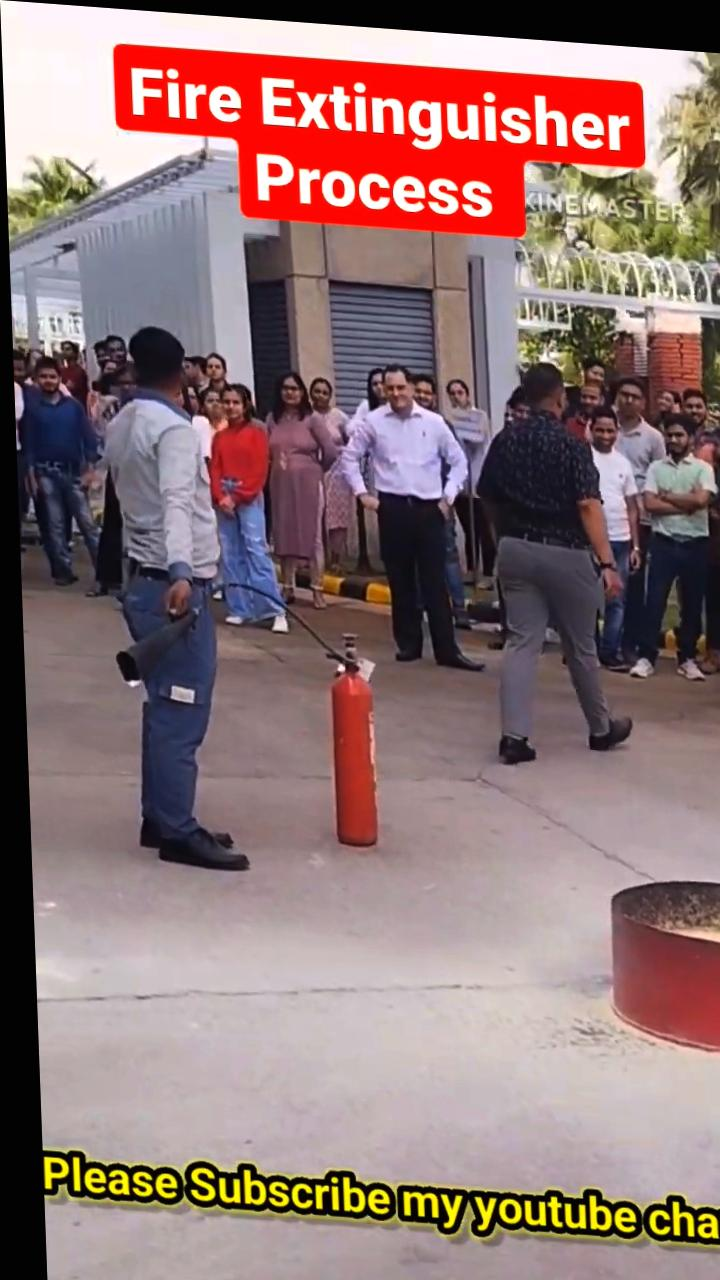FireExtinguisher: (299, 649, 397, 864)
